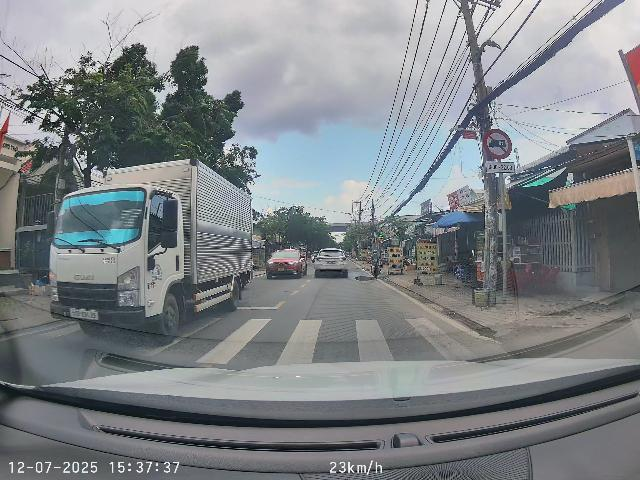106-cam-oto-tai: (483, 129, 512, 159)
